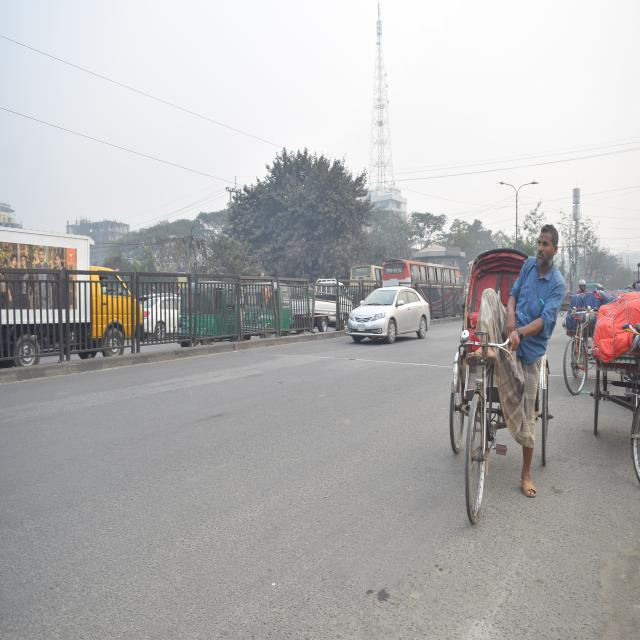bus: (383, 255, 464, 317)
car: (347, 273, 443, 363), (144, 291, 188, 350)
pickup-van: (0, 221, 149, 370)
